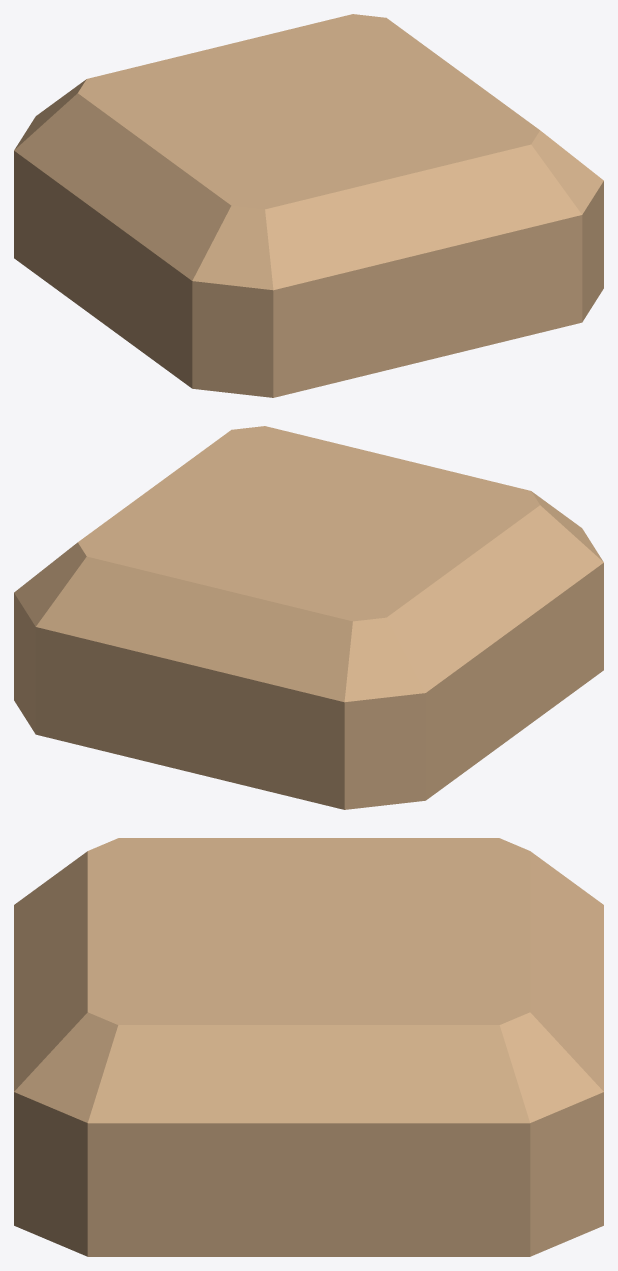
Rendered from Puzzle_Closed_Conduit_Terminator.fbx.
The picture shows the model from 3 angles, top to bottom: view 1: azimuth 30°, elevation 25°; view 2: azimuth 150°, elevation 25°; view 3: azimuth 270°, elevation 25°; orthographic projection. The views are drawn at different scales.
Parts seen in each view (by area): view 1: object1; view 2: object1; view 3: object1.
Part boxes in pixels (left/top/right/bottom): object1: left=14, top=14, right=603, bottom=397; object1: left=14, top=426, right=603, bottom=809; object1: left=14, top=838, right=603, bottom=1256.
Size of the model in its own units: 0.2 by 0.075 by 0.2.
